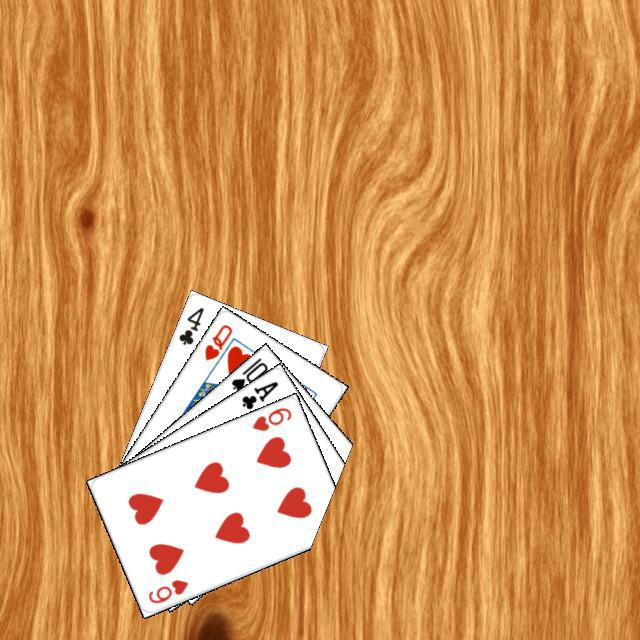10s: (226, 352, 270, 393)
4c: (174, 302, 205, 347)
6h: (143, 574, 190, 605), (247, 402, 293, 433)
Ac: (236, 376, 280, 411)
Qh: (199, 319, 234, 362)
